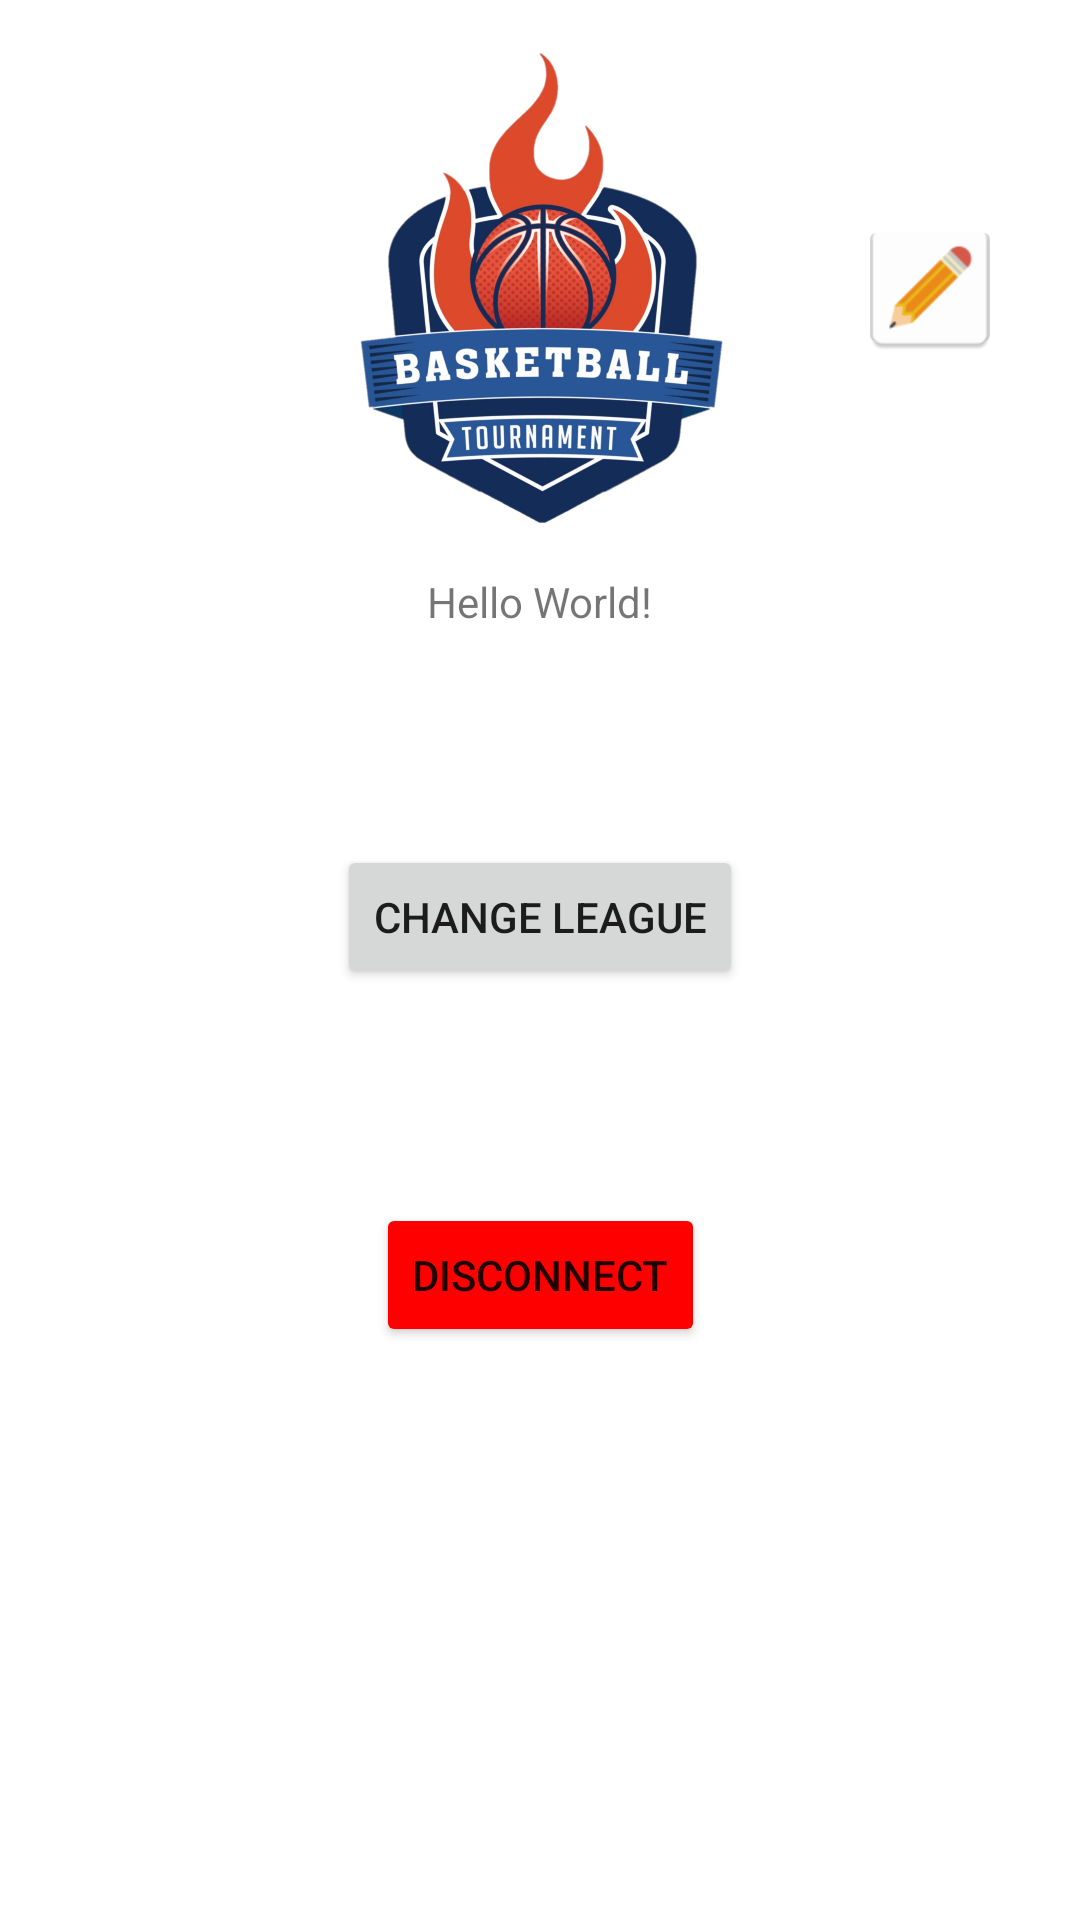

Screen size 1080w x 1920h. Icon name, then its box in pixels as (x1, y1, x2, y2):
matita: (870, 234, 990, 348)
